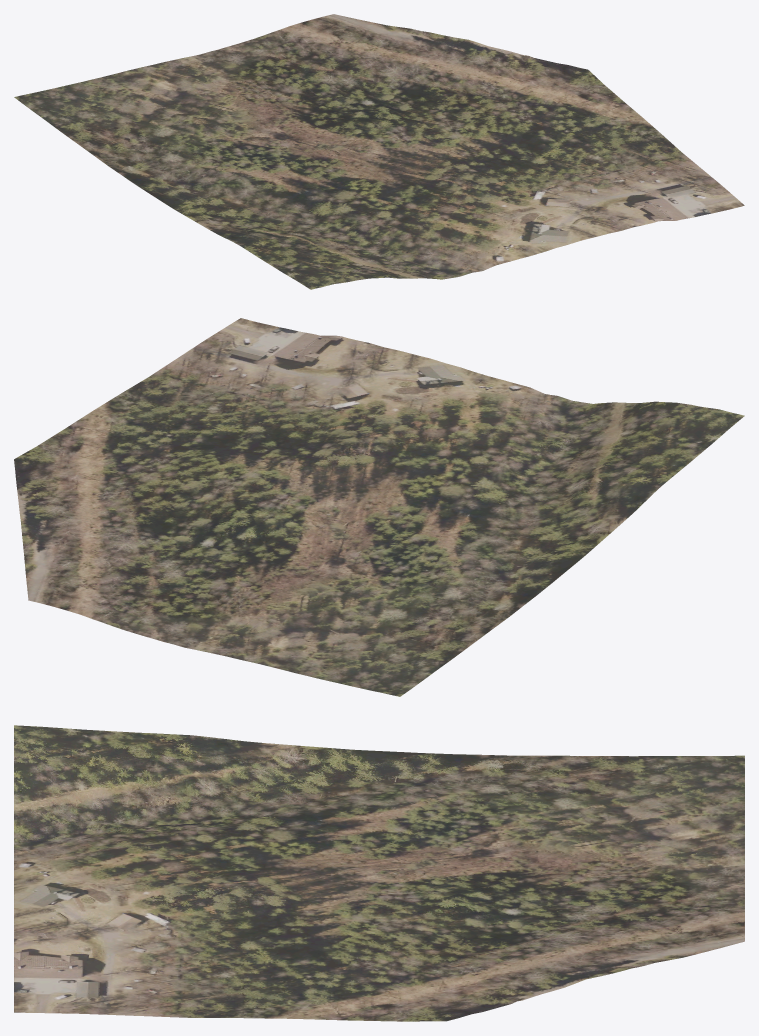
File: CM_Terrain_24493940_6816312.fbx
The picture shows the model from 3 angles, top to bottom: view 1: azimuth 30°, elevation 25°; view 2: azimuth 150°, elevation 25°; view 3: azimuth 270°, elevation 25°; orthographic projection. The views are drawn at different scales.
Parts seen in each view (by area): view 1: CM_Terrain_24493940_6816312_LOD0; view 2: CM_Terrain_24493940_6816312_LOD0; view 3: CM_Terrain_24493940_6816312_LOD0.
Part boxes in pixels (x1,y1,x2,y2): CM_Terrain_24493940_6816312_LOD0: (14, 14, 744, 289); CM_Terrain_24493940_6816312_LOD0: (14, 318, 744, 696); CM_Terrain_24493940_6816312_LOD0: (14, 725, 744, 1021).
Size of what is drawn, in the model's own units: 180 by 10.58 by 205.
